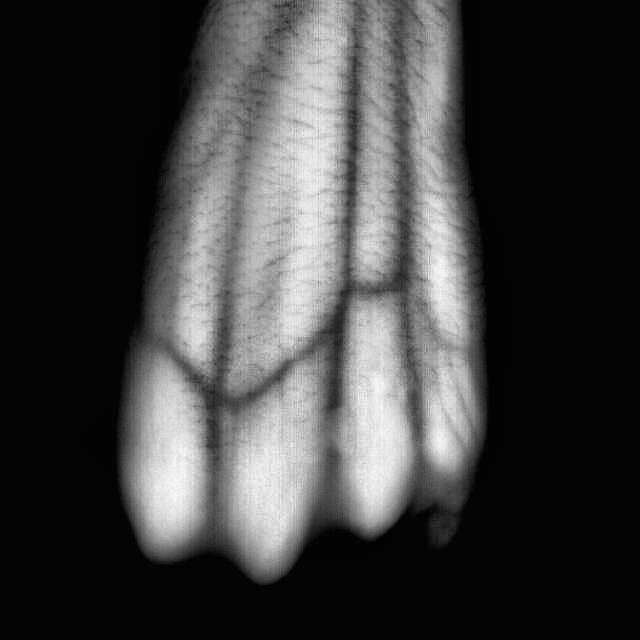Vein: (201, 36, 419, 409)
